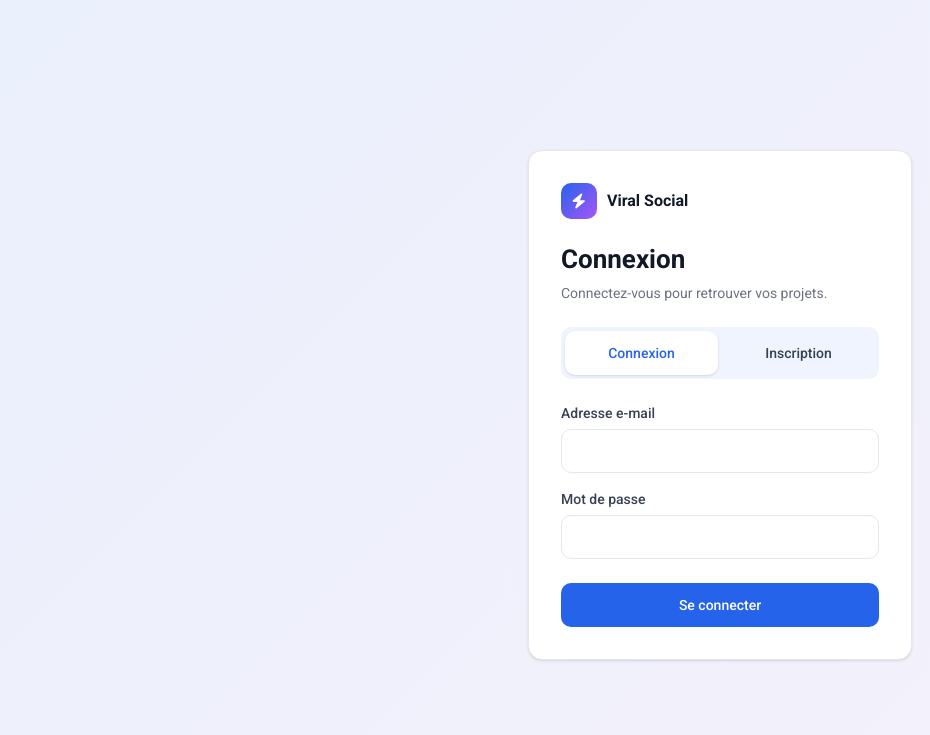
Login › affiche l'erreur de l'API sous le bon champ
The image size is (930, 735).
Click the button "Inscription".
click(798, 353)  # box [722, 331, 875, 375]
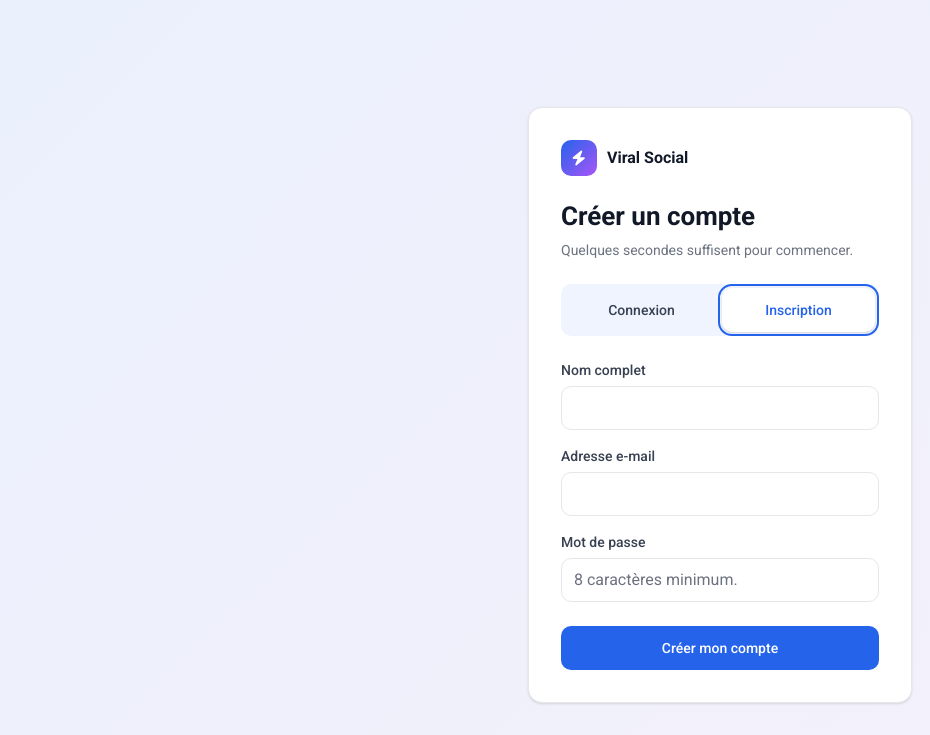
Type "Awa Diallo" into the field labelled "Nom complet".
click(720, 408); type("Awa Diallo")  # box [561, 386, 879, 430]
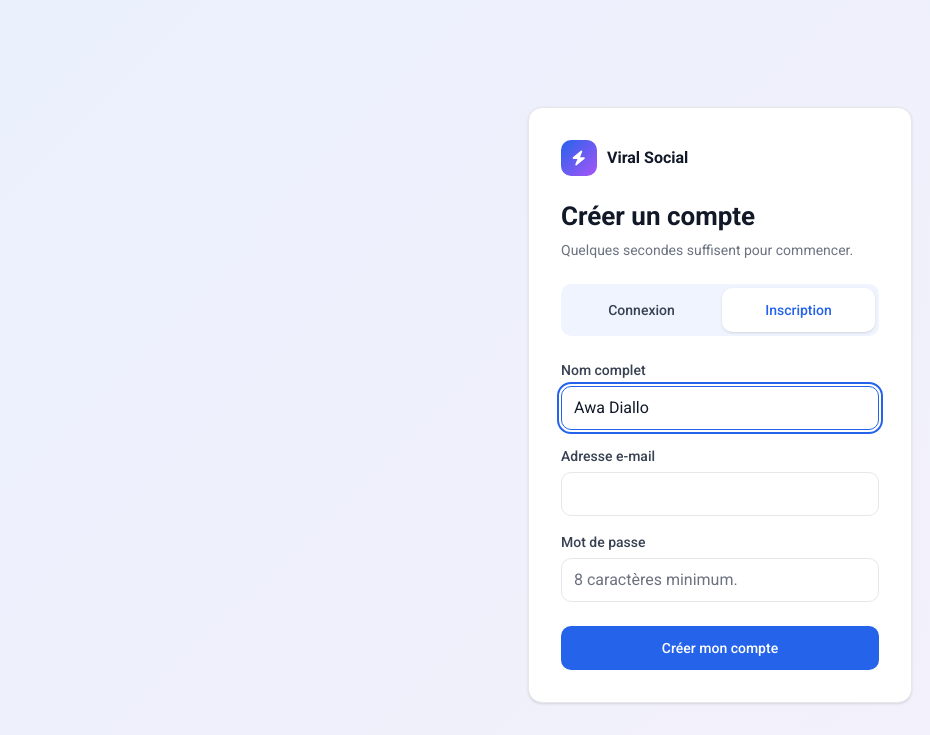
Type "awa@example.com" into the field labelled "Adresse e-mail".
click(720, 494); type("awa@example.com")  # box [561, 472, 879, 516]
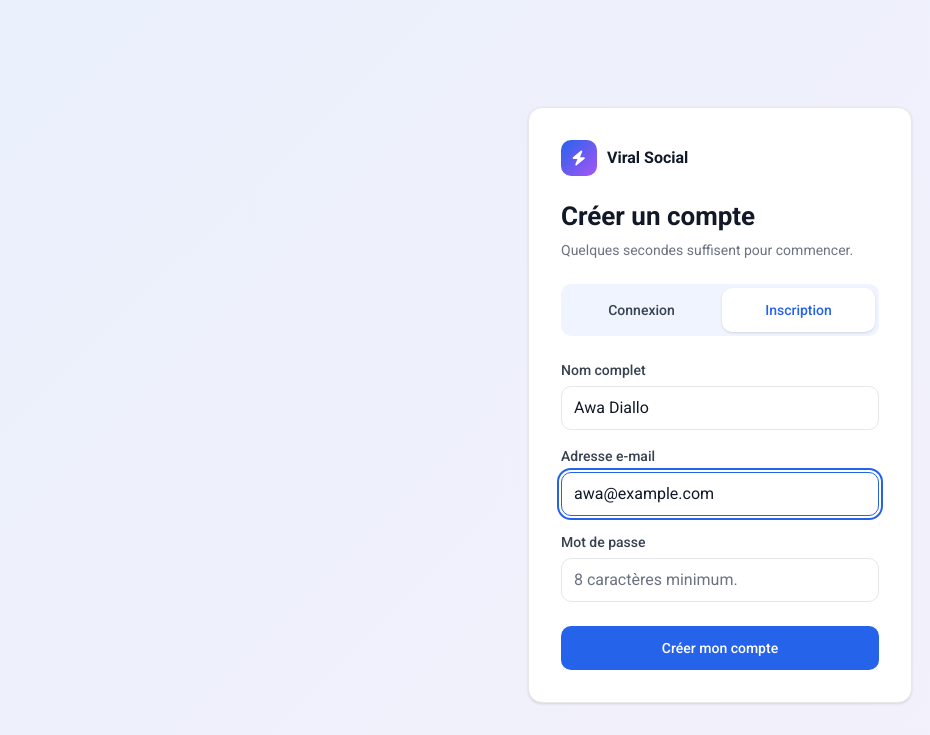
Type "Mot-de-passe-solide-1" into the password field labelled "Mot de passe".
click(720, 580); type("Mot-de-passe-solide-1")  # box [561, 558, 879, 602]
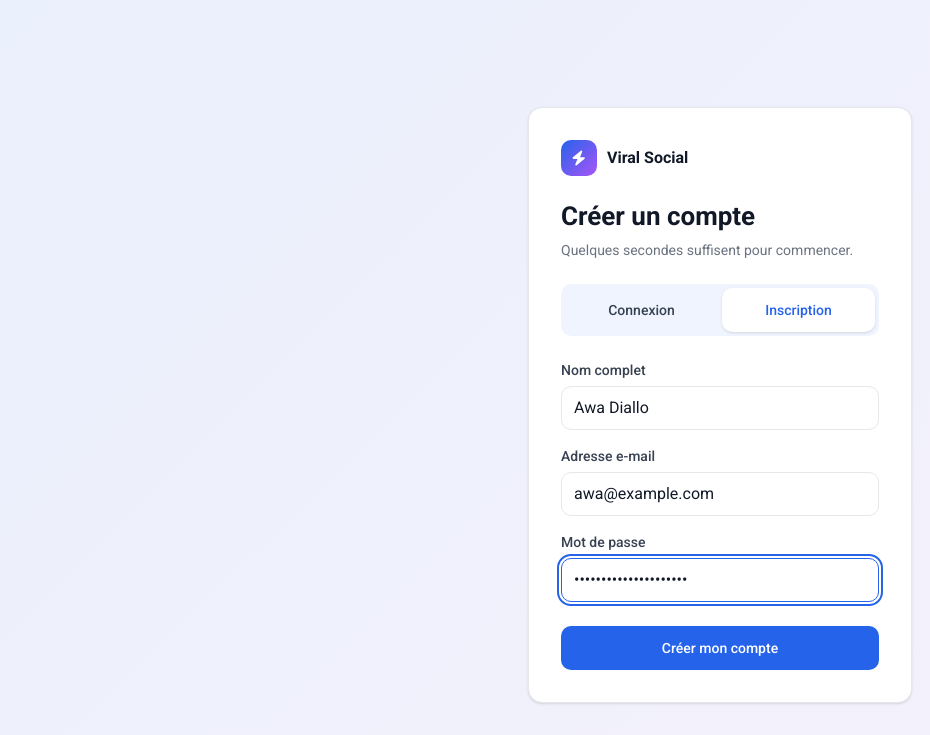
Click the button "Créer mon compte".
click(720, 648)  # box [561, 626, 879, 670]
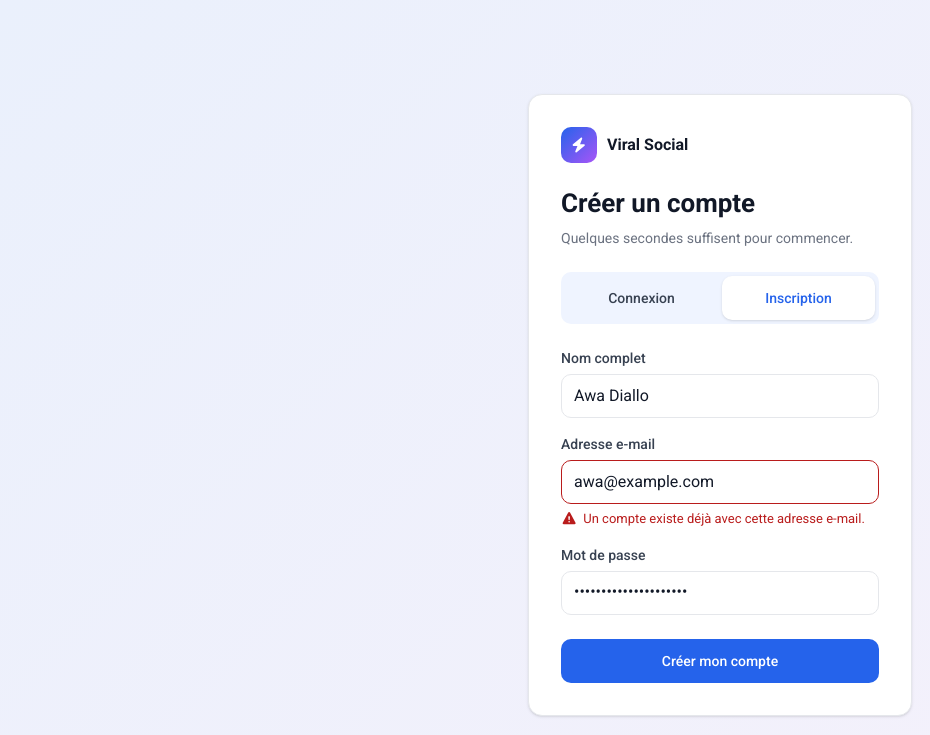
Result: the text "Un compte existe déjà avec cette adresse e-mail." is shown at [583, 510, 865, 529]
